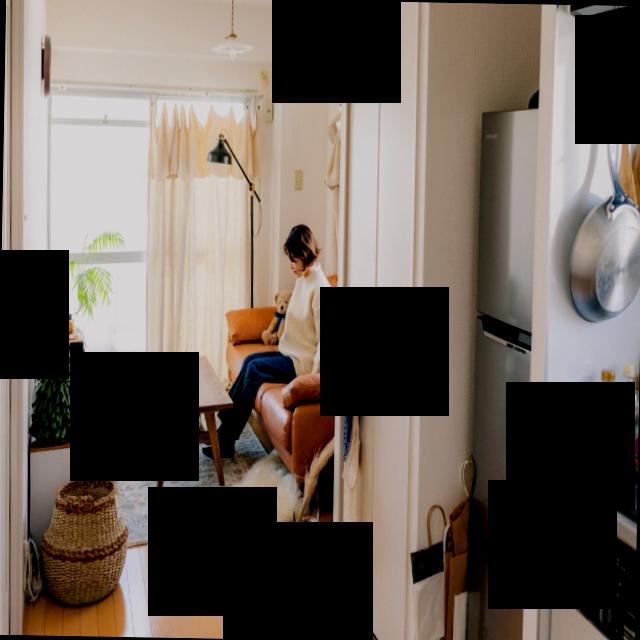vintage desk: (137, 349, 234, 502)
